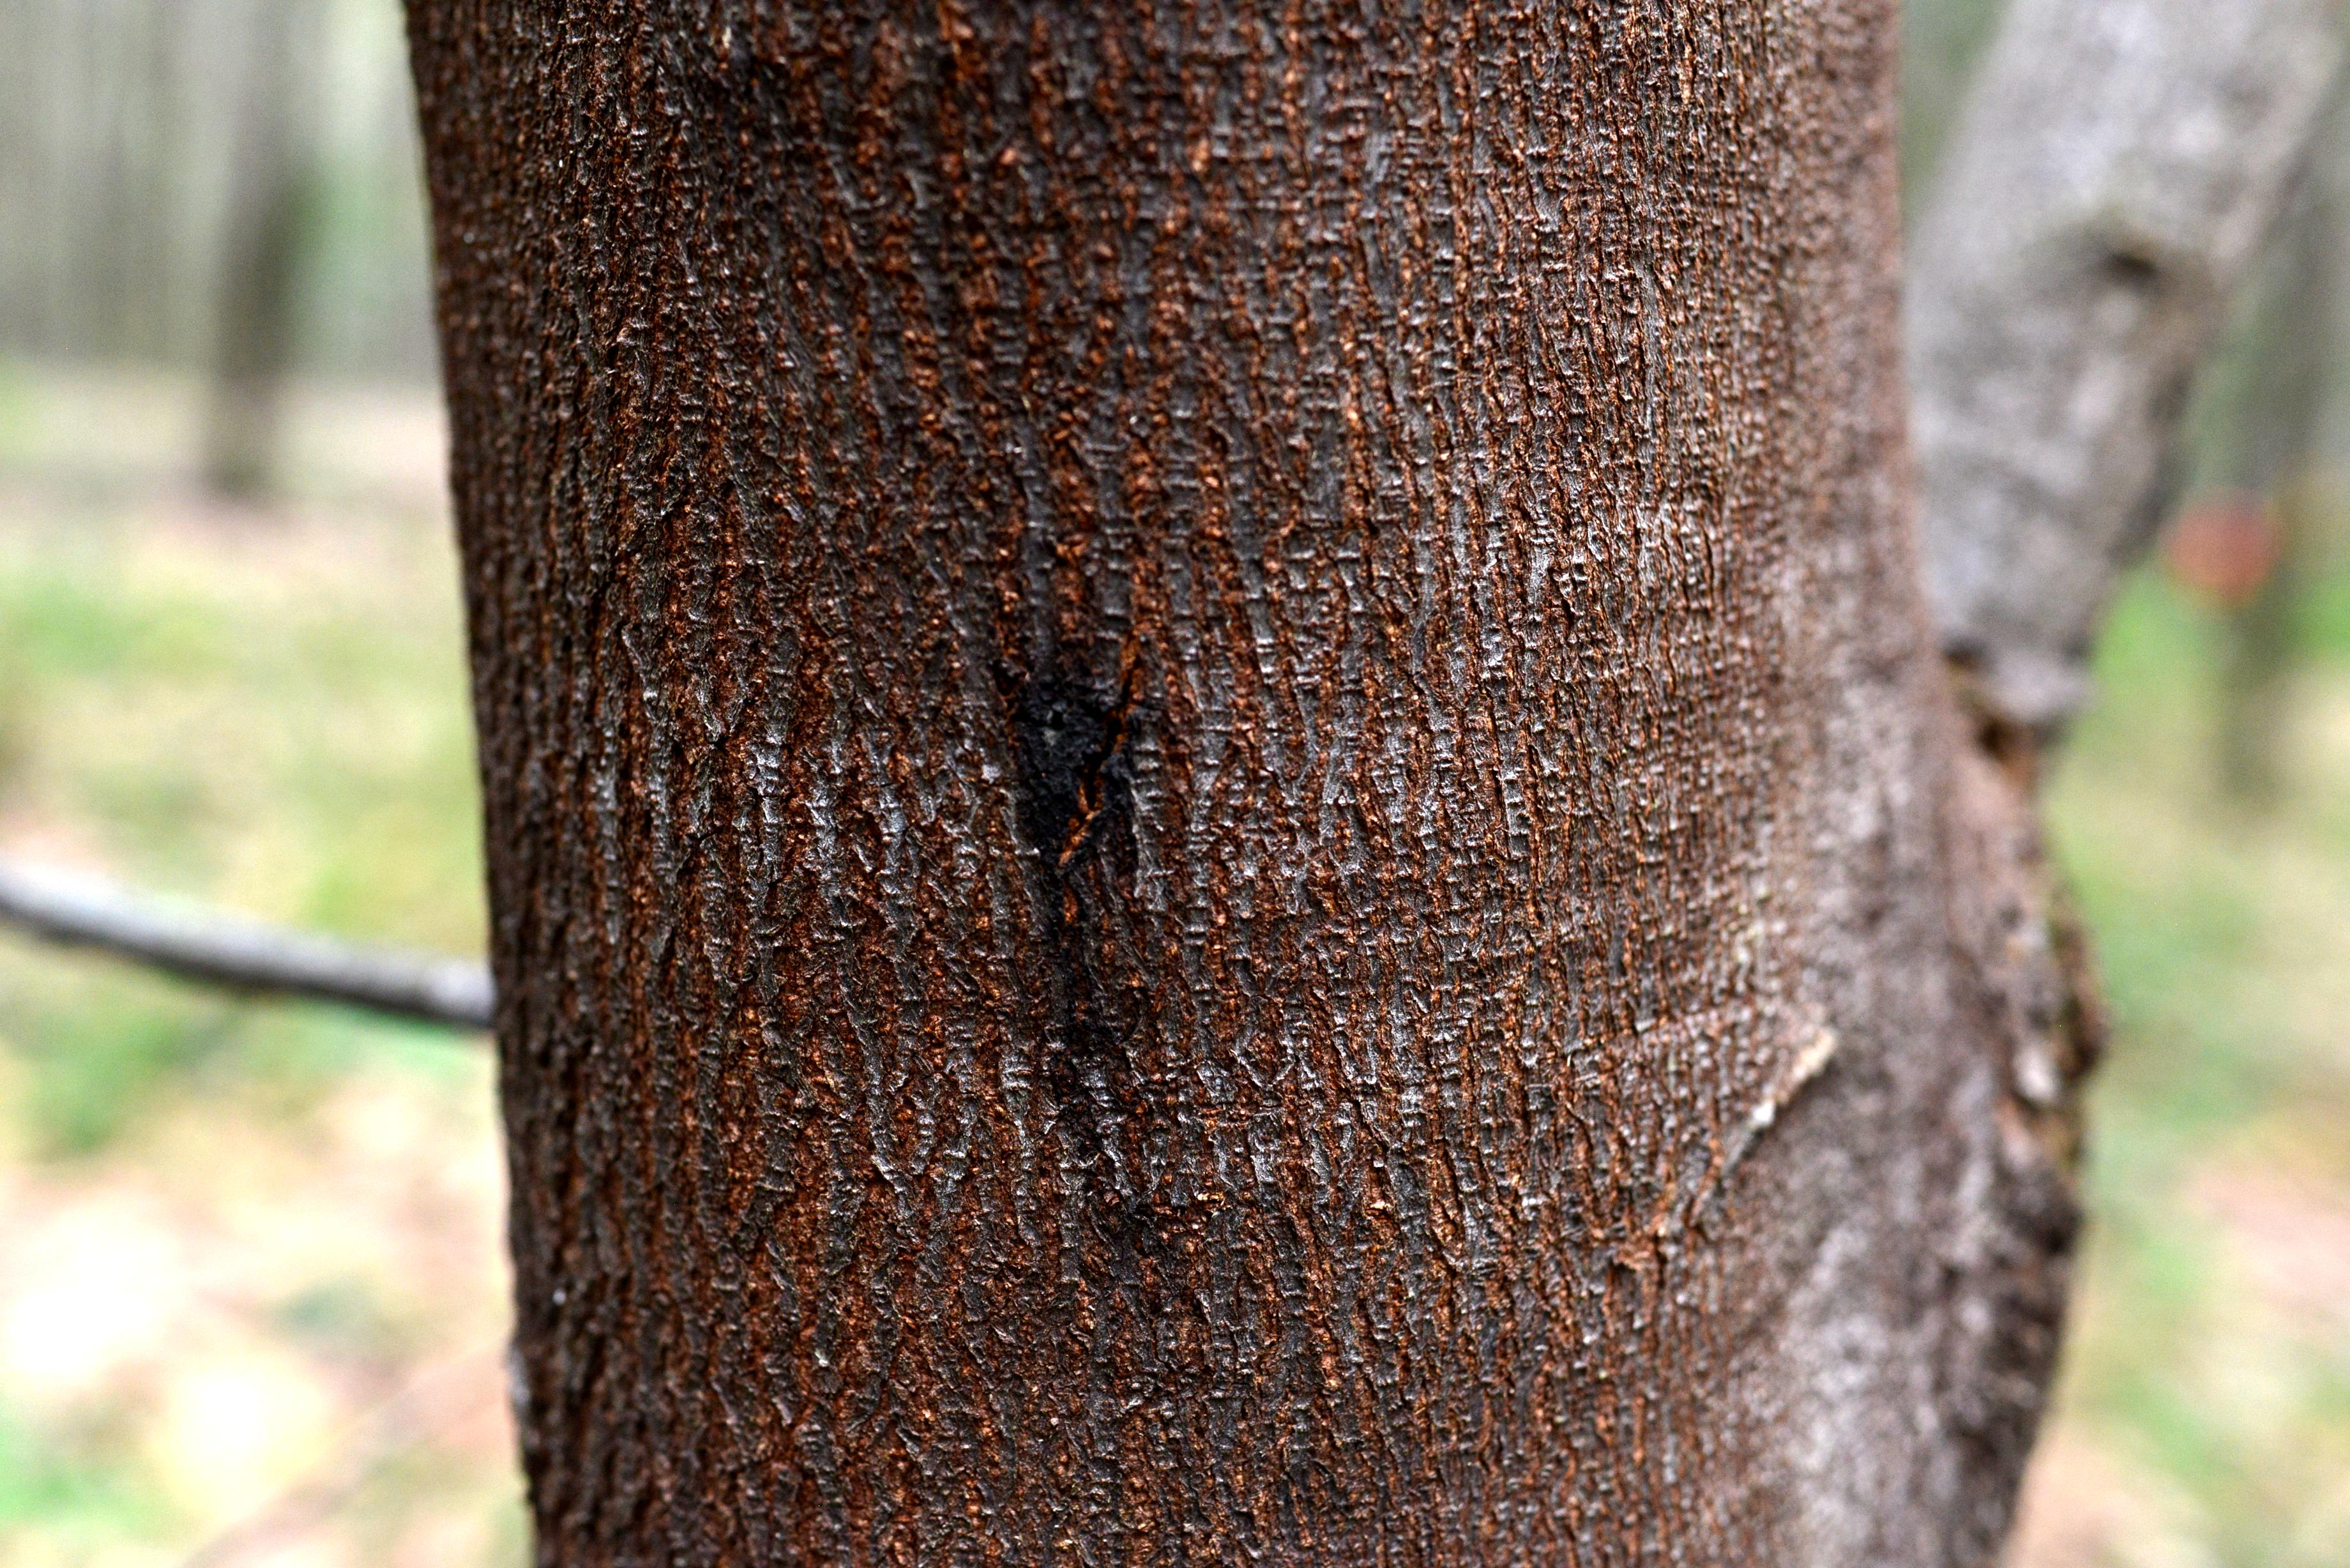Stem Borer: (962, 600, 1160, 1209)
